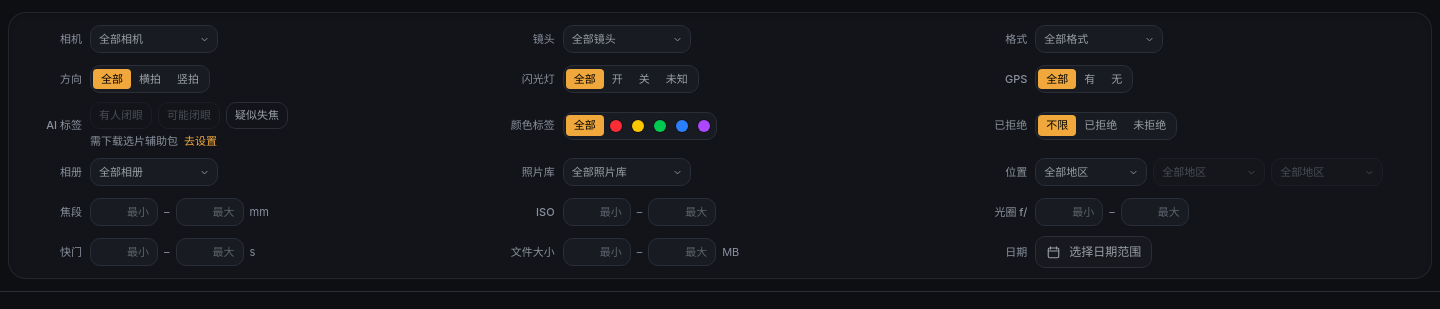
Scenario: 筛选面板：位置三级级联 › 国家下拉渲染 mapRegionTree 选项；未选国家时省/市县禁用
Click the button with test id "search-region-country-button": x=1091, y=172 [1036,159,1146,185]
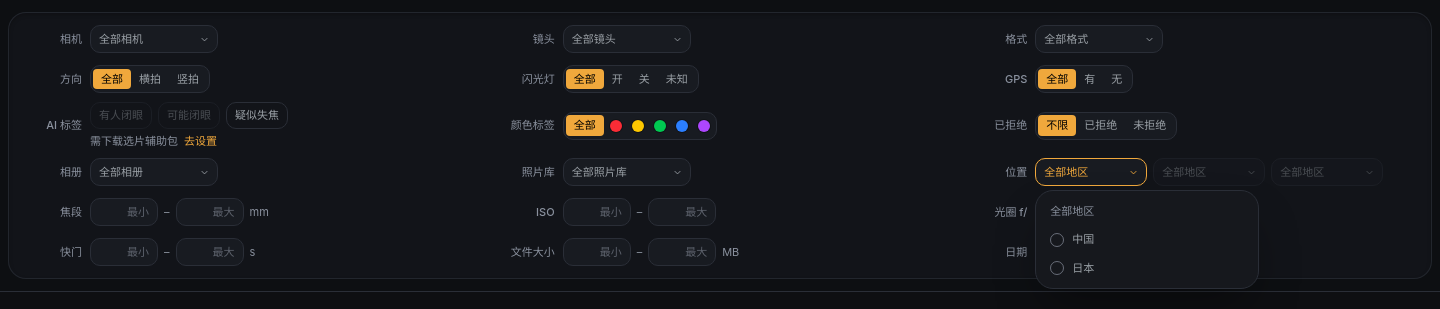
Check: the elements with test id "search-region-country-option" read "中国", "日本", in this order, box [1042,225,1244,254]; [1042,254,1244,282]
